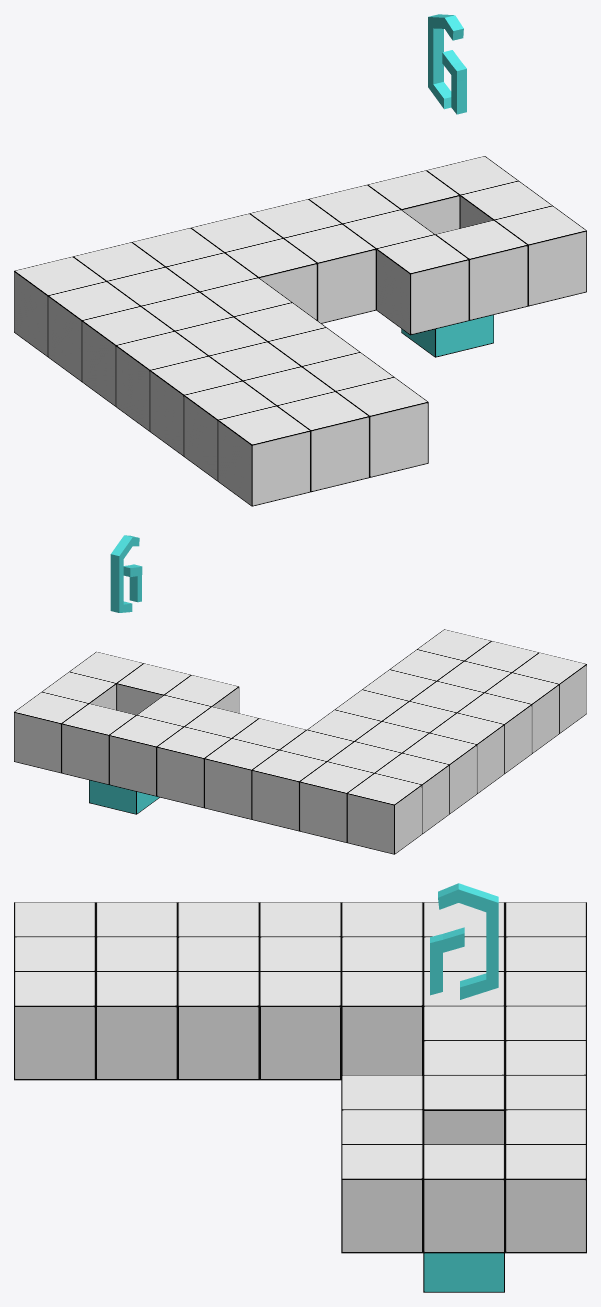
Rendered from stage01.fbx.
3 renders of one model, top to bottom at view 1: azimuth 30°, elevation 25°; view 2: azimuth 150°, elevation 25°; view 3: azimuth 270°, elevation 25°, orthographic. The views are drawn at different scales.
Visible parts, largest first — view 1: polySurface61; view 2: polySurface61; view 3: polySurface61.
Boxes of the visible parts, x1,y1,x2,y2 form: polySurface61: (14,14,586,506); polySurface61: (14,535,586,854); polySurface61: (14,883,586,1292).
Bounding box in the file's own units: 8 × 5.25 × 7.
3 materials, 3 textured.
